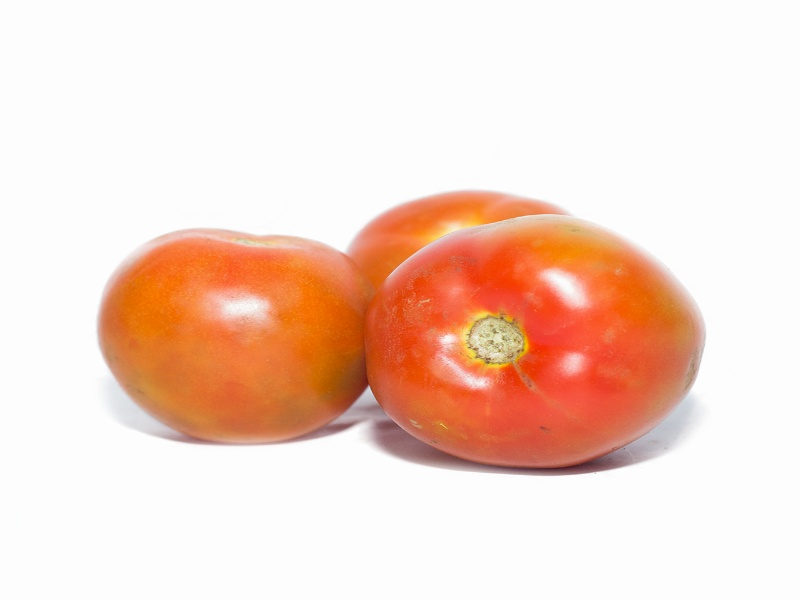Tomate: (365, 217, 706, 468), (99, 230, 377, 446), (345, 191, 579, 294)
